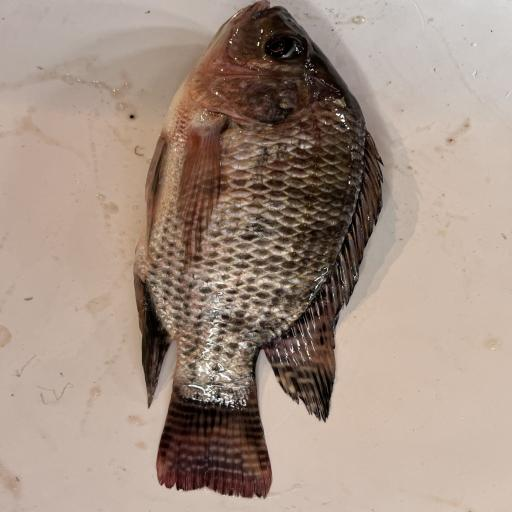Tilapia: (133, 0, 385, 500)
